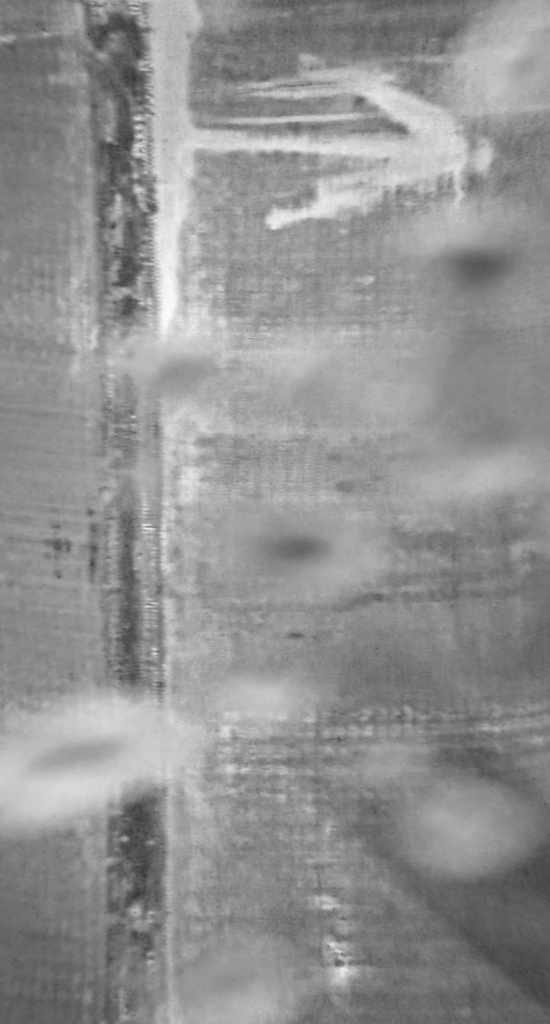splice: (71, 1, 174, 1023)
